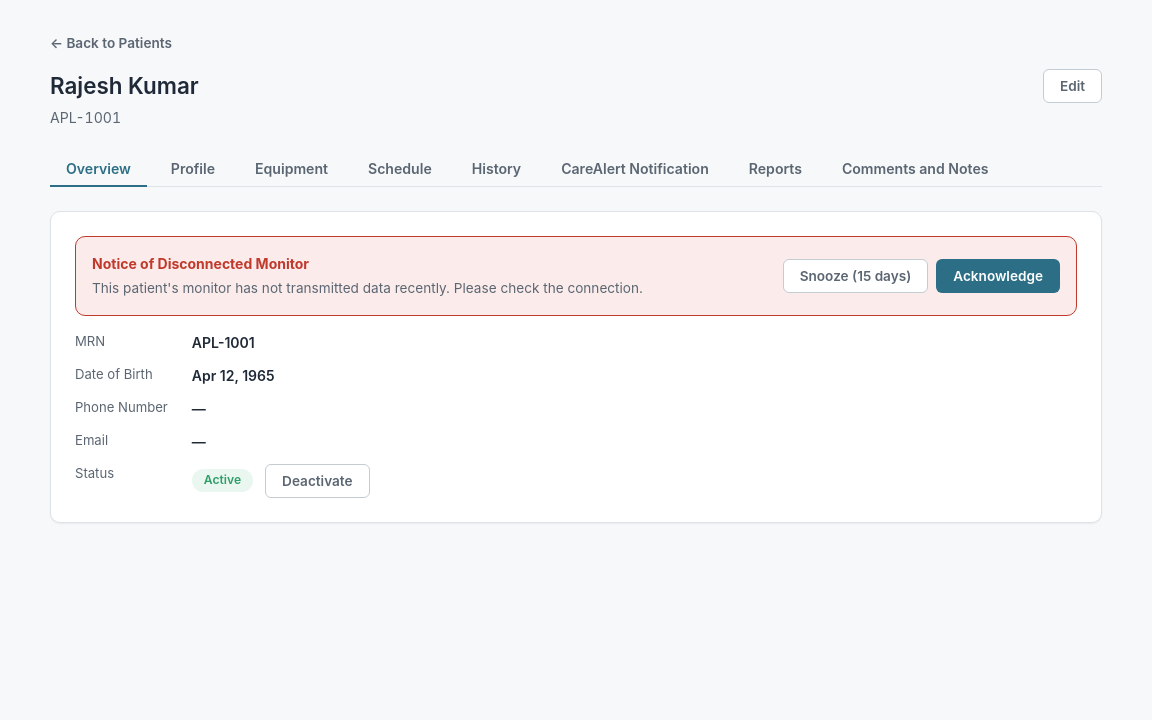
PatientDetailComponent › saves the override selections and shows a success message
The width and height of the screenshot is (1152, 720).
Click the button with class "tab" showing "CareAlert Notification": [635, 170] box [545,152,725,187]
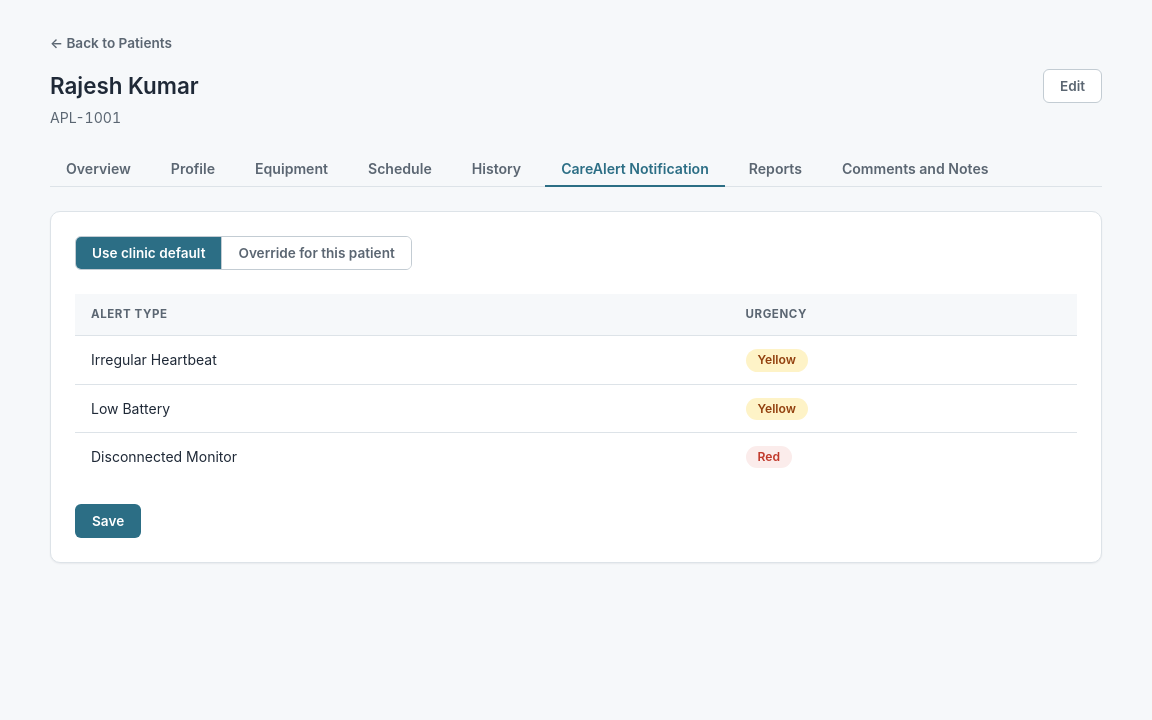
Click the button with class "toggle-option" showing "Override for this patient": [317, 253] box [222,237,411,269]
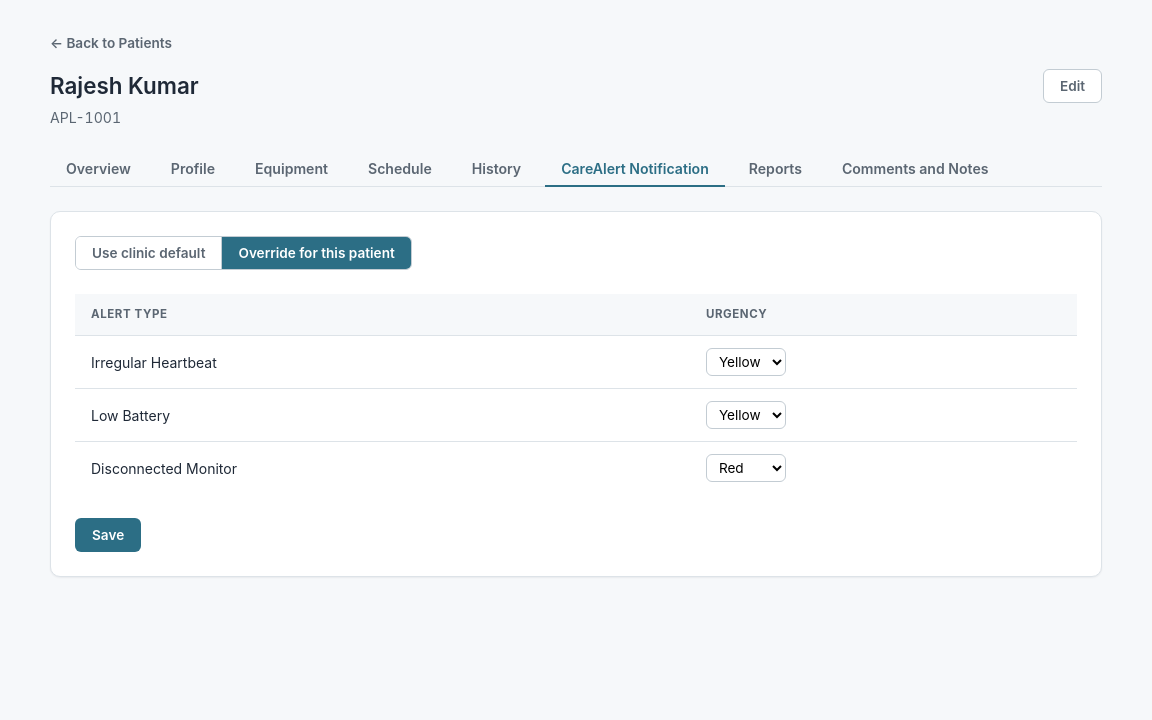
Click the button "Save": [108, 535] box [75,518,141,552]
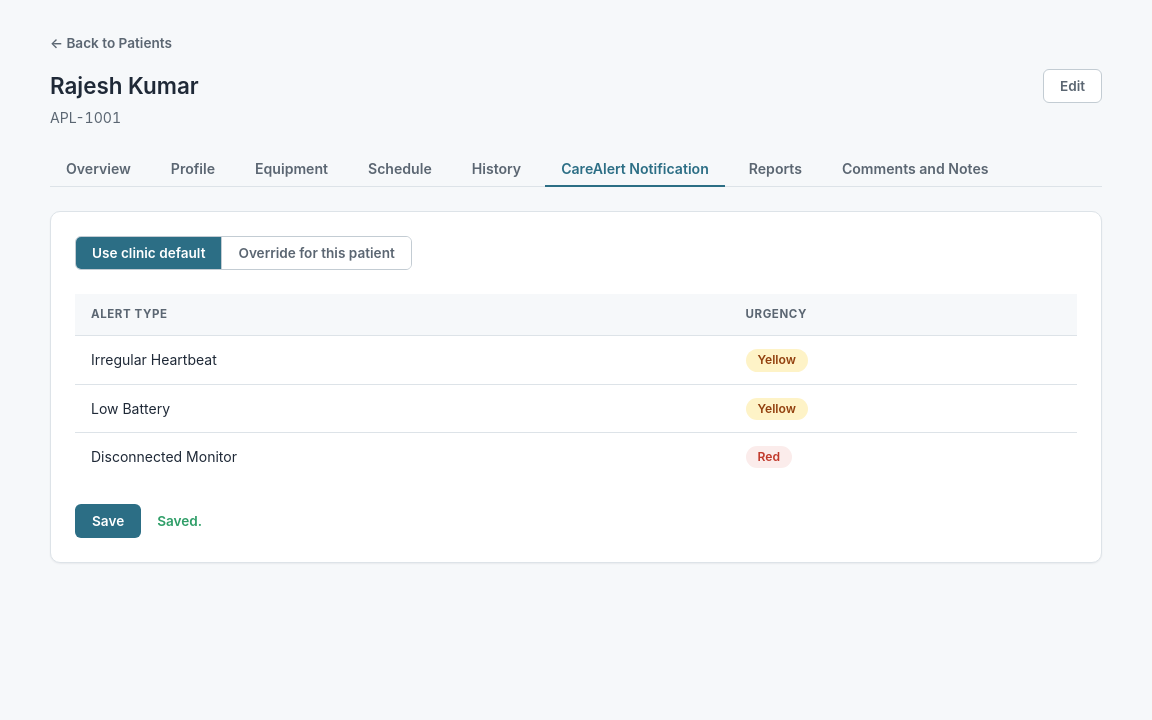
Expected: the text "Saved." is shown, [157,511,202,531]
